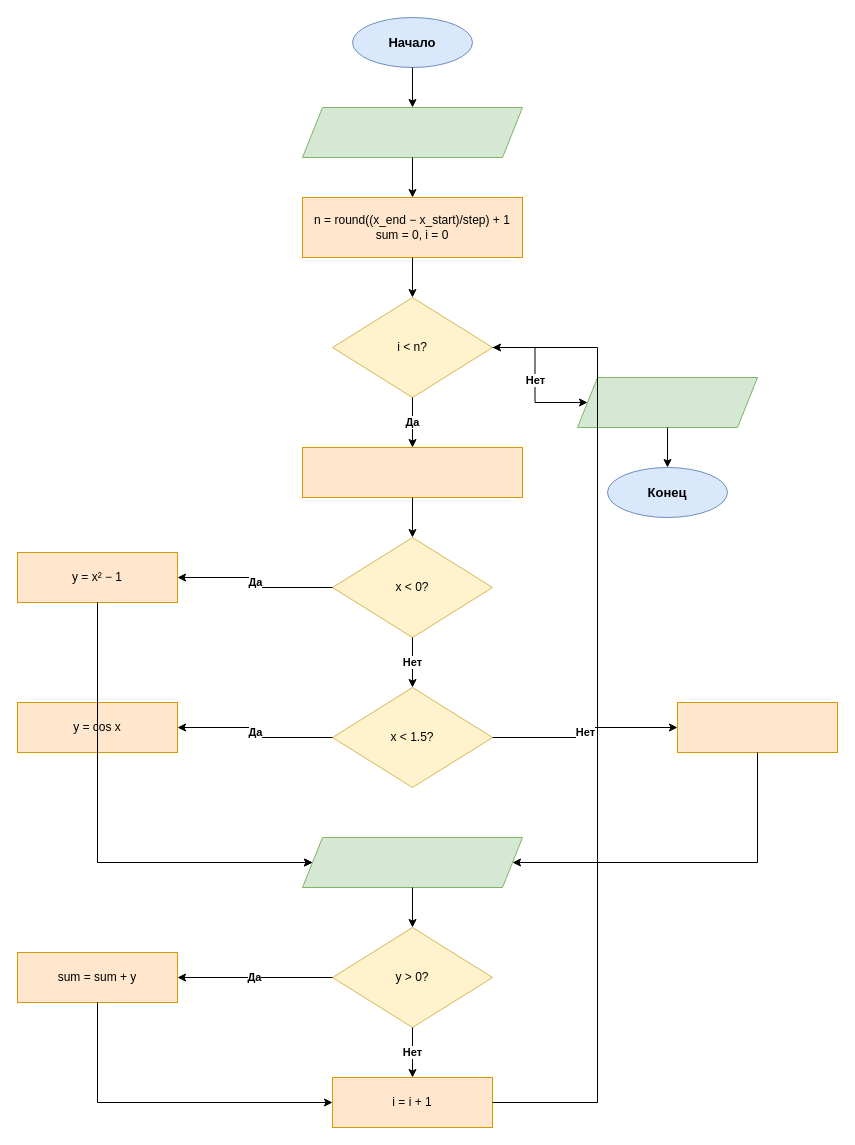
The diagram is 855 pixels wide and 1145 high, and some of its shapes have lost their labels. The shapes that lost their labels are listed below. From the top down, each one's centre as x and y in pixels, then its label:
At point (412, 132): "Ввод x_start, x_end, step".
At point (667, 402): "Вывод: sum".
At point (412, 472): "x = x_start + i · step".
At point (757, 727): "y = sin(x − 1)".
At point (412, 862): "Вывод: x, y".
